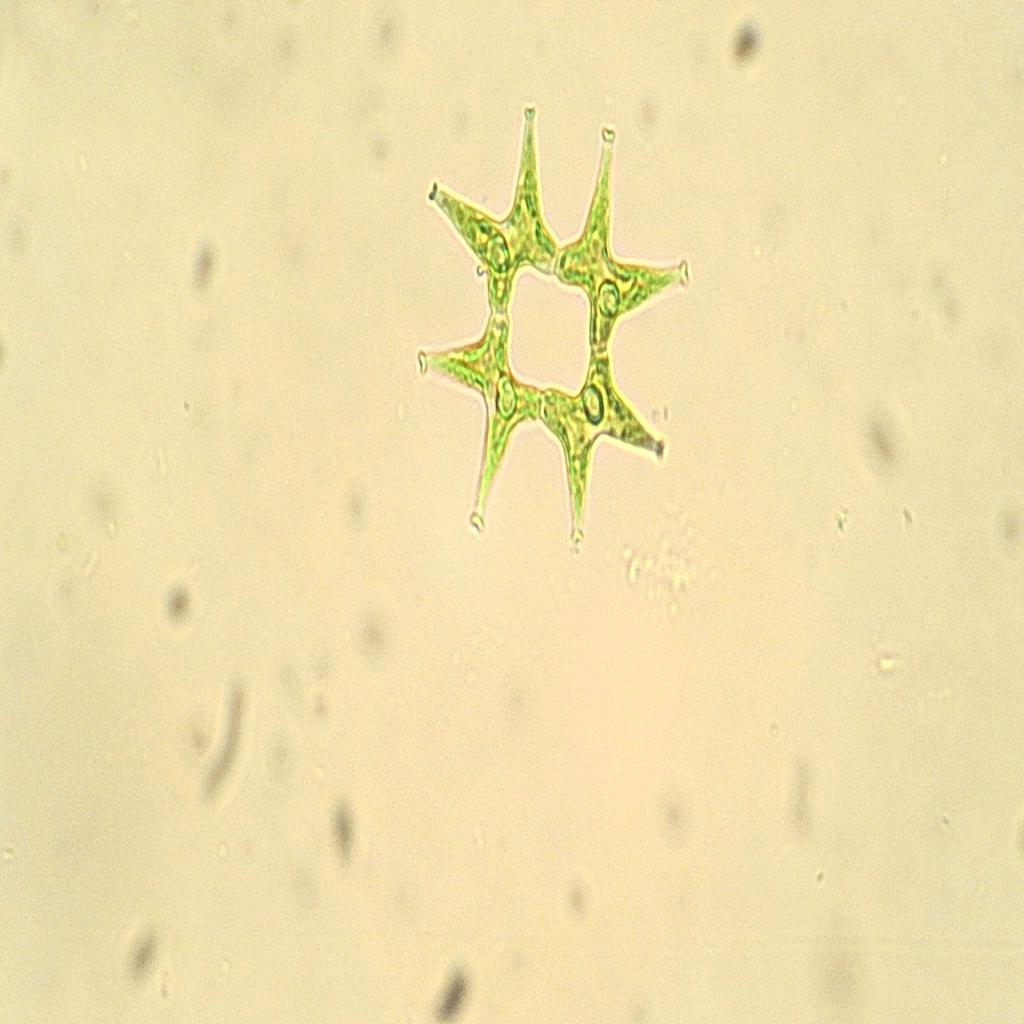Pediastrum_CO: (404, 80, 695, 560)
